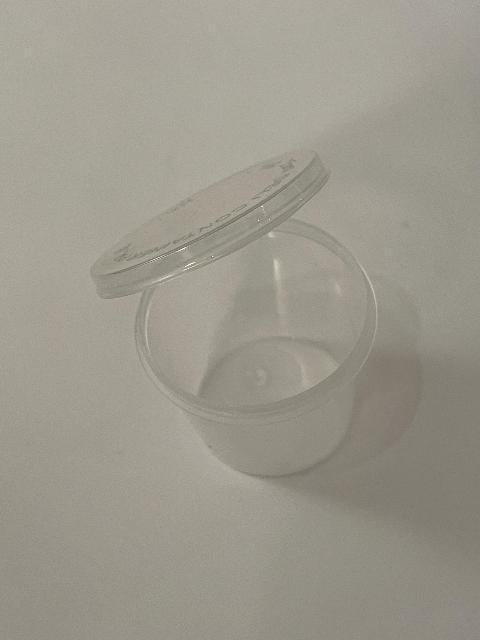plasticcontainer: (87, 146, 380, 482)
